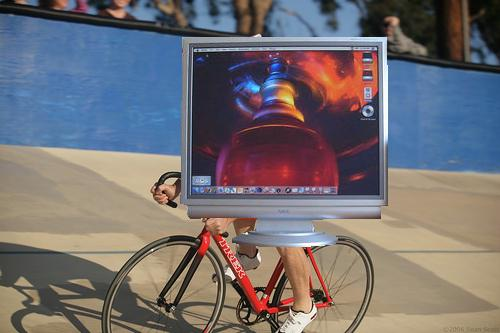tampered: (181, 38, 388, 247)
